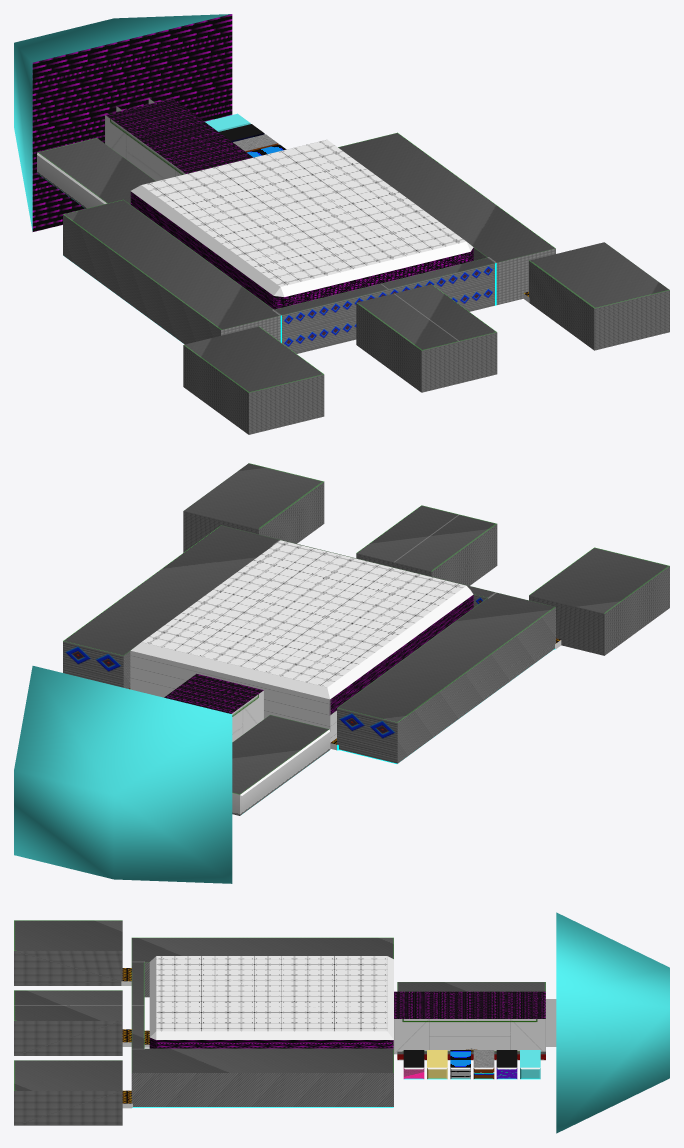
3 renders of one model, top to bottom at view 1: azimuth 30°, elevation 25°; view 2: azimuth 150°, elevation 25°; view 3: azimuth 270°, elevation 25°, orthographic. The views are drawn at different scales.
Visible parts, largest first — view 1: MainCeilings, CockpitBackWall, window, LeftEngineRoomWalls, MiddleEngineRoomWalls, RightEngineRoomWalls, StoreRoomOuterWalls, EngineCorridorWalls, angledCeilings, Bridge2Walls, BridgeConnectorWalls, StoreToRightEngineRoomDoorwayWall (+1 smaller); view 2: MainCeilings, window, Bridge2Walls, StoreRoomOuterWalls, LeftEngineRoomWalls, angledCeilings, RightEngineRoomWalls, MiddleEngineRoomWalls, LeftStoreToBridge2Wall, RightStoreToBridge2Wall, LabWalls, BridgeConnectorWalls; view 3: MainCeilings, window, StoreRoomOuterWalls, BridgeConnectorWalls, MiddleEngineRoomWalls, RightEngineRoomWalls, LeftEngineRoomWalls, angledCeilings, Bridge2Walls, BridgeDoorwayWalls, DoorwayCeilings, Separatorfloors (+7 smaller).
Boxes of the visible parts, x1,y1,x2,y2 form: MainCeilings: (38, 98, 669, 392); CockpitBackWall: (32, 14, 232, 231); window: (14, 14, 231, 230); LeftEngineRoomWalls: (183, 345, 324, 434); MiddleEngineRoomWalls: (356, 303, 497, 392); RightEngineRoomWalls: (529, 261, 669, 350); StoreRoomOuterWalls: (63, 214, 220, 344); EngineCorridorWalls: (282, 263, 494, 353); angledCeilings: (131, 185, 473, 296); Bridge2Walls: (130, 191, 473, 309); BridgeConnectorWalls: (105, 115, 185, 181); StoreToRightEngineRoomDoorwayWall: (496, 248, 555, 304); MainCeilings: (63, 463, 669, 794); window: (14, 666, 232, 883); Bridge2Walls: (130, 594, 473, 742); StoreRoomOuterWalls: (397, 607, 555, 763); LeftEngineRoomWalls: (529, 566, 669, 655); angledCeilings: (131, 586, 473, 699); RightEngineRoomWalls: (183, 482, 324, 552); MiddleEngineRoomWalls: (356, 524, 497, 585); LeftStoreToBridge2Wall: (337, 708, 397, 763); RightStoreToBridge2Wall: (63, 641, 123, 687); LabWalls: (232, 732, 330, 815); BridgeConnectorWalls: (232, 690, 263, 741); MainCeilings: (14, 920, 545, 1090); window: (556, 912, 669, 1133); StoreRoomOuterWalls: (131, 1073, 393, 1106); BridgeConnectorWalls: (394, 1019, 545, 1054); MiddleEngineRoomWalls: (14, 1021, 122, 1055); RightEngineRoomWalls: (14, 1091, 122, 1125); LeftEngineRoomWalls: (14, 951, 122, 985); angledCeilings: (149, 956, 393, 1039); Bridge2Walls: (149, 1037, 393, 1048); BridgeDoorwayWalls: (546, 999, 556, 1046); DoorwayCeilings: (122, 968, 476, 1103); Separatorfloors: (132, 1078, 539, 1107).
Bounding box in the file's own units: 312 × 120 × 508.
Materials: 43 (34 with a texture image).
